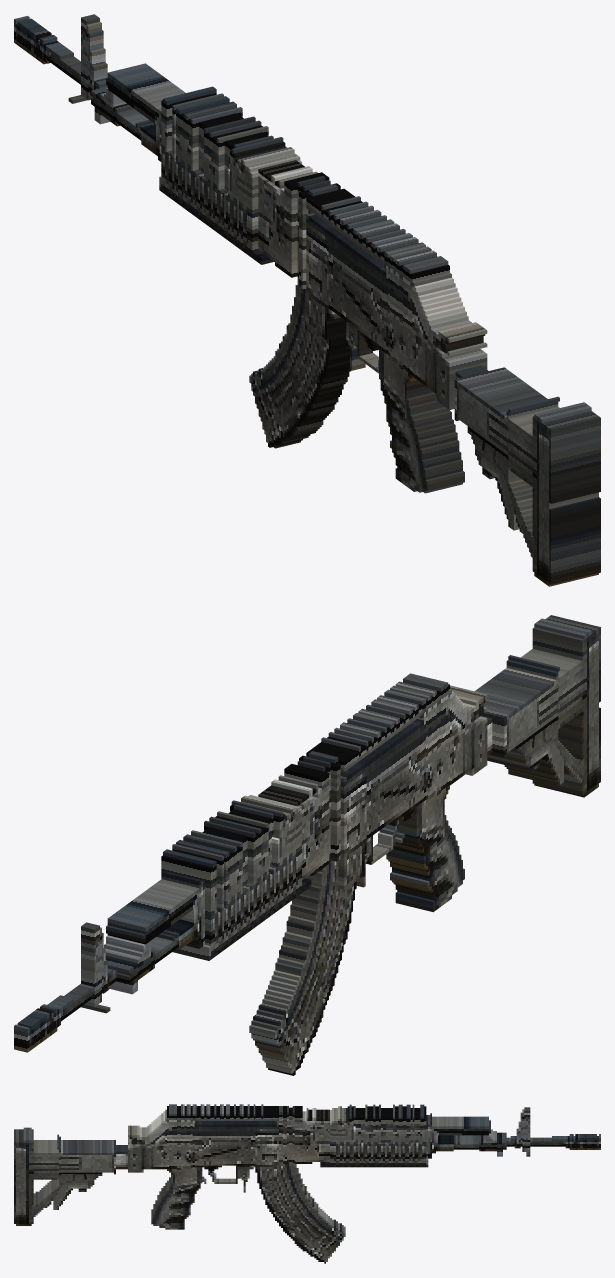
3 renders of one model, top to bottom at view 1: azimuth 30°, elevation 25°; view 2: azimuth 150°, elevation 25°; view 3: azimuth 270°, elevation 25°, orthographic. The views are drawn at different scales.
Parts seen in each view (by area): view 1: download_108, download_148, download_190, download_87, download_77, download_80, download_101, download_149, download_72, download_29, download_17, download_16 (+18 smaller); view 2: download_148, download_87, download_80, download_77, download_107, download_101, download_149, download_47, download_0, download_17, download_29, download_16 (+25 smaller); view 3: download_87, download_148, download_77, download_80, download_149, download_101, download_72, download_78, download_17, download_108, download_15, download_29 (+36 smaller).
Boxes of the visible parts, <box> form: download_108: <box>542,411,600,503</box>; download_148: <box>454,367,547,454</box>; download_190: <box>549,497,600,584</box>; download_87: <box>328,244,386,349</box>; download_77: <box>306,213,346,340</box>; download_80: <box>107,63,185,127</box>; download_101: <box>534,402,591,580</box>; download_149: <box>508,407,559,486</box>; download_72: <box>258,175,280,263</box>; download_29: <box>284,172,329,277</box>; download_17: <box>403,256,448,381</box>; download_16: <box>395,250,436,467</box>; download_148: <box>475,668,556,754</box>; download_87: <box>364,734,423,839</box>; download_80: <box>107,879,199,944</box>; download_77: <box>338,762,364,889</box>; download_107: <box>532,627,584,795</box>; download_101: <box>534,618,591,797</box>; download_149: <box>521,649,582,728</box>; download_47: <box>161,855,212,959</box>; download_0: <box>81,922,99,1006</box>; download_17: <box>403,673,448,798</box>; download_29: <box>284,764,329,868</box>; download_16: <box>395,681,436,898</box>; download_87: <box>194,1131,255,1165</box>; download_148: <box>61,1140,115,1172</box>; download_77: <box>257,1121,278,1183</box>; download_80: <box>432,1116,488,1135</box>; download_149: <box>33,1140,58,1179</box>; download_101: <box>23,1127,31,1225</box>; download_72: <box>310,1121,329,1161</box>; download_78: <box>194,1121,257,1131</box>; download_17: <box>169,1104,176,1172</box>; download_108: <box>14,1129,23,1181</box>; download_15: <box>186,1104,190,1208</box>; download_29: <box>294,1106,302,1163</box>.
Bounding box in the file's own units: 0.0517 × 0.2833 × 0.9967.
1 material, 1 textured.
